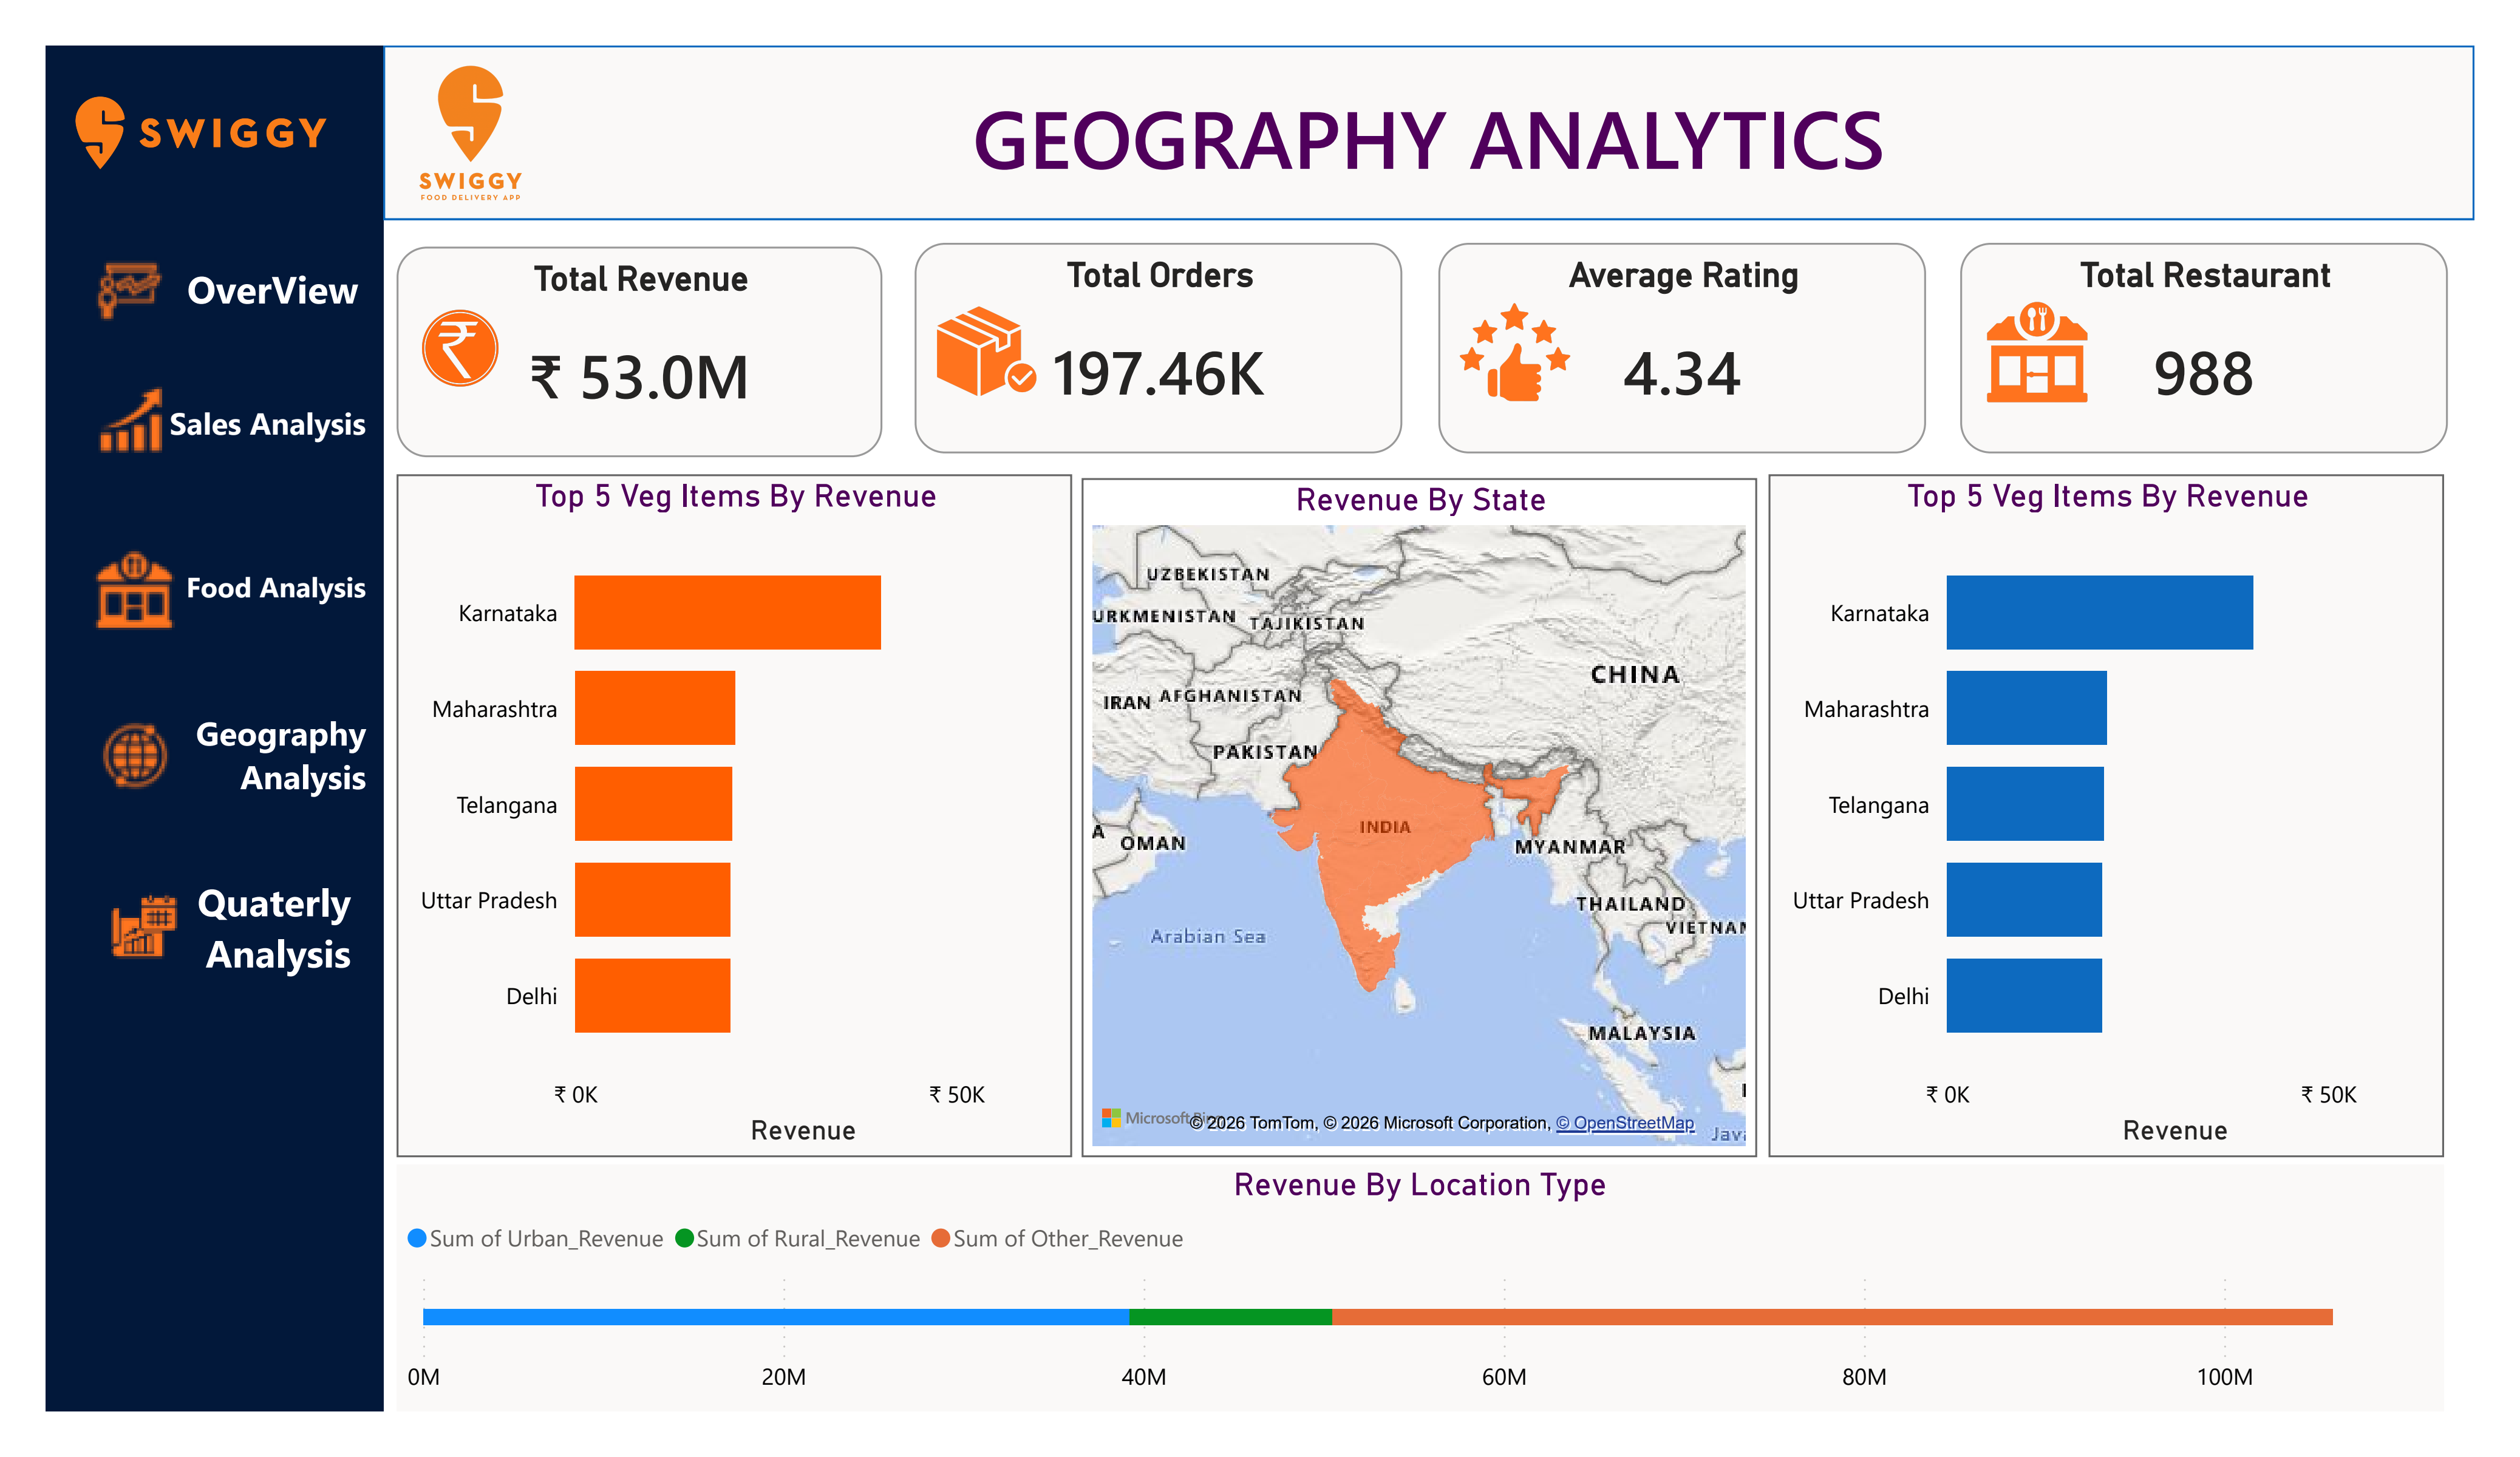

The dashboard page shown, as its layout file describes it:
{"tool":"powerbi","page":{"name":"Geography Analysis ","canvas":[1280,720],"ordinal":3},"visuals":[{"type":"group","id":"g1","title":"Group 1","box":[185.2,105.7,256.6,111.1],"z":0},{"type":"group","id":"g2","title":"Group 2","box":[458.3,104.3,256.6,111.1],"z":1000},{"type":"group","id":"g3","title":"Group 3","box":[733.9,104.3,256.6,111.1],"z":2000},{"type":"group","id":"g4","title":"Group 4","box":[1008.6,104.3,256.6,111.1],"z":3000},{"type":"image","box":[734.1,105.7,81,111.1],"z":4000},{"type":"image","box":[1008.6,105.7,81,111.1],"z":5000},{"type":"cardVisual","title":"Total Restaurant","fields":{"Data":["Count(swiggy_data.Restaurant Name)"]},"box":[1008.6,104.3,256.6,111.1],"z":6000,"group":"g4"},{"type":"cardVisual","title":"Total Revenue","fields":{"Data":["Sum(swiggy_data.Price (INR))"]},"box":[185.2,105.7,256,111.1],"z":6000,"group":"g1"},{"type":"image","box":[456.9,105.7,78.2,109.8],"z":6000},{"type":"image","box":[185.2,104.3,67.2,111.1],"z":7000},{"type":"cardVisual","title":"Total Orders","fields":{"Data":["CountNonNull(swiggy_data.Order Date)"]},"box":[458.3,104.3,256.6,111.1],"z":7000,"group":"g2"},{"type":"shape","box":[0,0,178.4,720.4],"z":8000},{"type":"cardVisual","title":"Average Rating","fields":{"Data":["Avg(swiggy_data.Rating)"]},"box":[733.9,104.3,256.6,111.1],"z":8000,"group":"g3"},{"type":"image","box":[16.5,0,131.7,91.9],"z":9000},{"type":"shape","box":[178.1,0,1101.9,91.9],"z":10000},{"type":"image","box":[126.2,0,196.2,91.9],"z":11000},{"type":"barChart","title":"Top 5 Veg Items By Revenue","fields":{"Category":["top 5 revenue by state.State"],"Y":["Sum(top 5 revenue by state.Total_Orders)"]},"box":[185.2,226.4,355.4,359.5],"z":12000},{"type":"filledMap","title":"Revenue By State","fields":{"Category":["revenue by state.State"]},"box":[546.1,227.8,355.4,358.1],"z":13000},{"type":"barChart","title":"Top 5 Veg Items By Revenue","fields":{"Category":["top 5 revenue by state.State"],"Y":["Sum(top 5 revenue by state.Total_Orders)"]},"box":[908.4,226.4,355.4,359.5],"z":14000},{"type":"barChart","title":"Revenue By Location Type","fields":{"Y":["Sum(urban revenue.Urban_Revenue)","Sum(rural revenue.Rural_Revenue)","Sum(others revenue.Other_Revenue)"]},"box":[185.2,589.6,1078.6,130.4],"z":15000},{"type":"textbox","box":[178.1,13.7,1101.9,91.9],"z":16000},{"type":"actionButton","box":[0,85.1,168.8,89.2],"z":16001},{"type":"actionButton","box":[4.1,152.3,168.8,89.2],"z":16002},{"type":"actionButton","box":[4.1,241.5,168.8,89.2],"z":16003},{"type":"actionButton","box":[3.7,419.4,168.8,89.3],"z":16004},{"type":"actionButton","box":[7.3,330.2,168.8,89.3],"z":16005}]}

Visuals, with their boxes on the page's 1280x720 design canvas (x1, y1, x2, y2). These are canvas units, not pixel positions in the 2520x1457 screenshot, which may show the page scaled, cropped or inside an application window:
"Group 1" group: (left=185, top=106, right=442, bottom=217)
"Group 2" group: (left=458, top=104, right=715, bottom=215)
"Group 3" group: (left=734, top=104, right=990, bottom=215)
"Group 4" group: (left=1009, top=104, right=1265, bottom=215)
image: (left=734, top=106, right=815, bottom=217)
image: (left=1009, top=106, right=1090, bottom=217)
"Total Restaurant" cardVisual: (left=1009, top=104, right=1265, bottom=215)
"Total Revenue" cardVisual: (left=185, top=106, right=441, bottom=217)
image: (left=457, top=106, right=535, bottom=216)
image: (left=185, top=104, right=252, bottom=215)
"Total Orders" cardVisual: (left=458, top=104, right=715, bottom=215)
shape: (left=0, top=0, right=178, bottom=720)
"Average Rating" cardVisual: (left=734, top=104, right=990, bottom=215)
image: (left=16, top=0, right=148, bottom=92)
shape: (left=178, top=0, right=1280, bottom=92)
image: (left=126, top=0, right=322, bottom=92)
"Top 5 Veg Items By Revenue" barChart: (left=185, top=226, right=541, bottom=586)
"Revenue By State" filledMap: (left=546, top=228, right=902, bottom=586)
"Top 5 Veg Items By Revenue" barChart: (left=908, top=226, right=1264, bottom=586)
"Revenue By Location Type" barChart: (left=185, top=590, right=1264, bottom=720)
textbox: (left=178, top=14, right=1280, bottom=106)
actionButton: (left=0, top=85, right=169, bottom=174)
actionButton: (left=4, top=152, right=173, bottom=242)
actionButton: (left=4, top=242, right=173, bottom=331)
actionButton: (left=4, top=419, right=172, bottom=509)
actionButton: (left=7, top=330, right=176, bottom=420)
